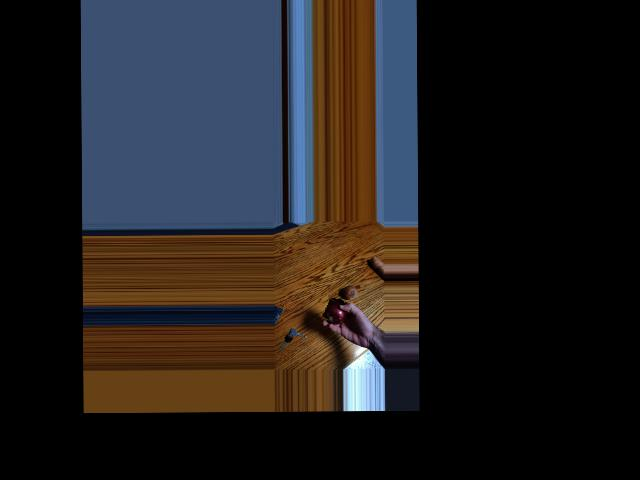onion: (342, 283, 357, 306)
